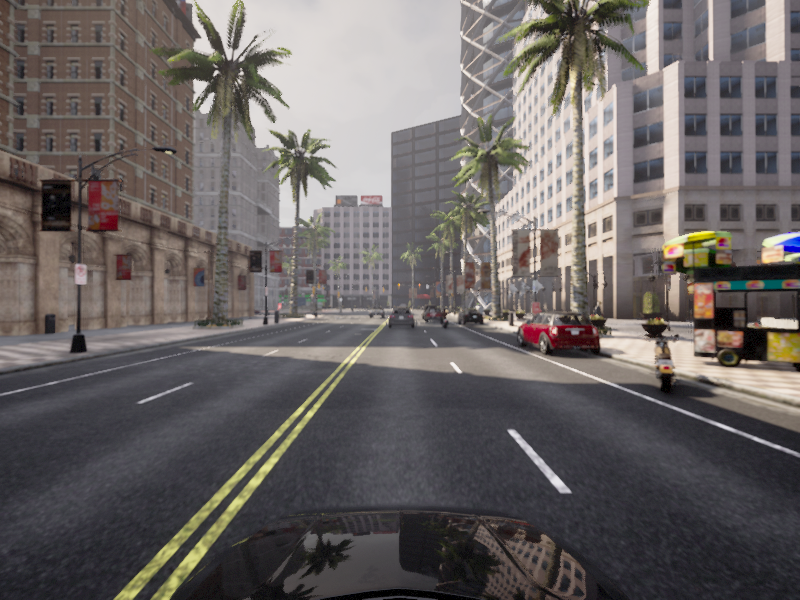vehicle: (387, 307, 415, 328), (423, 306, 444, 322), (438, 308, 450, 329)
